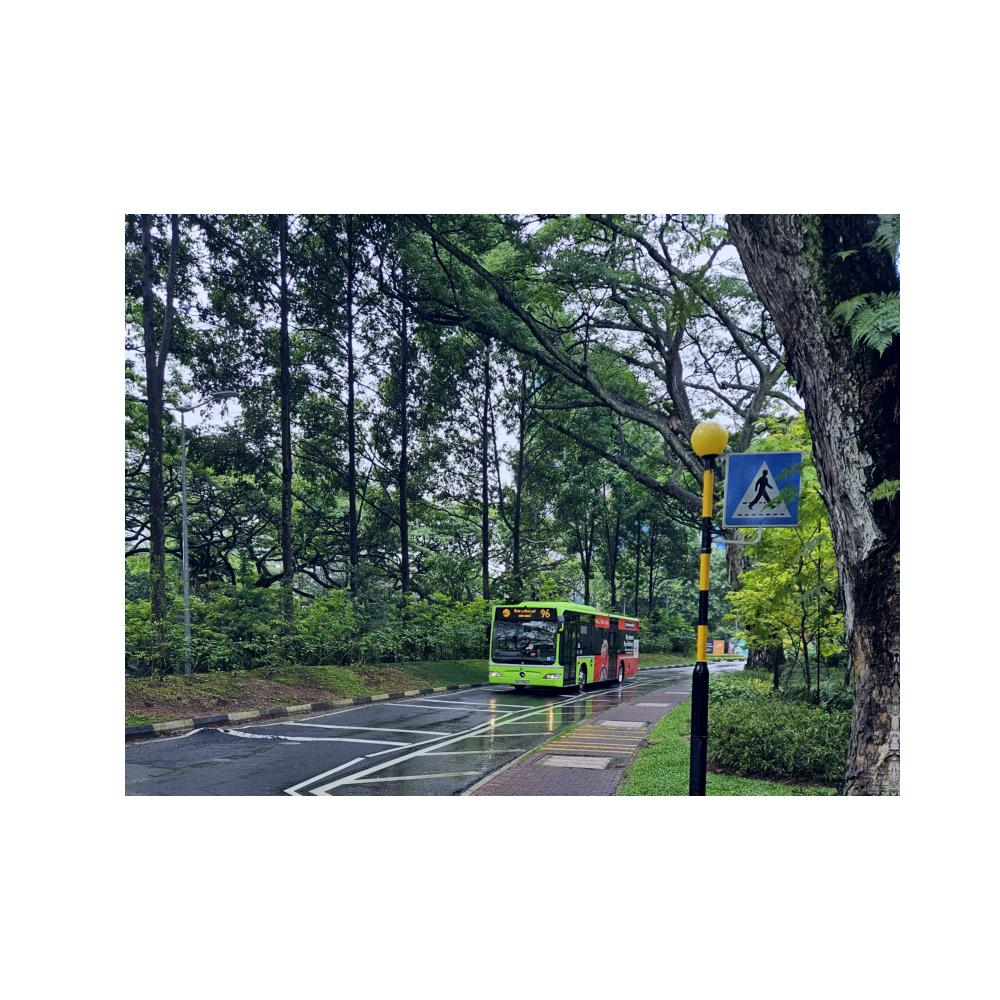bus: (484, 595, 642, 693)
